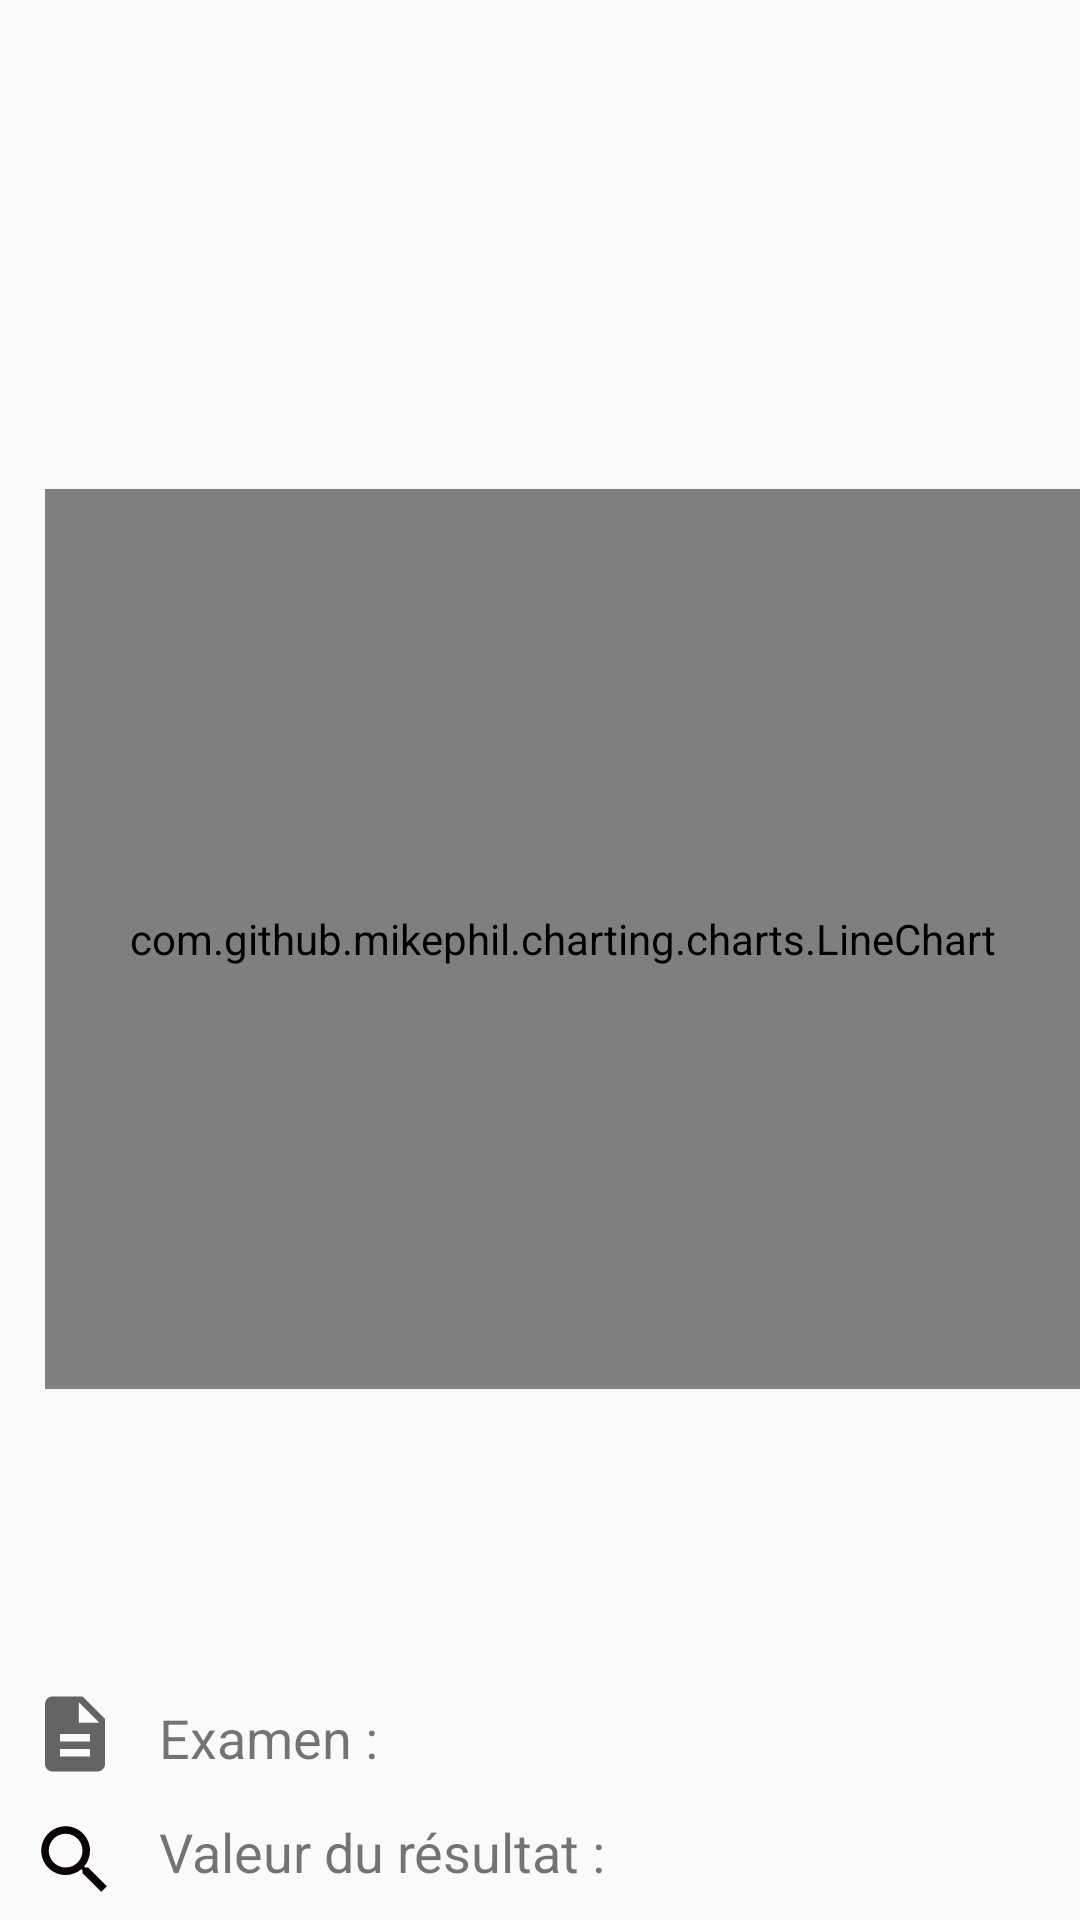

Where icons sit on this 1080×1920 app screen, as (x1, y1, x2, y2):
search: (41, 1826, 107, 1892)
